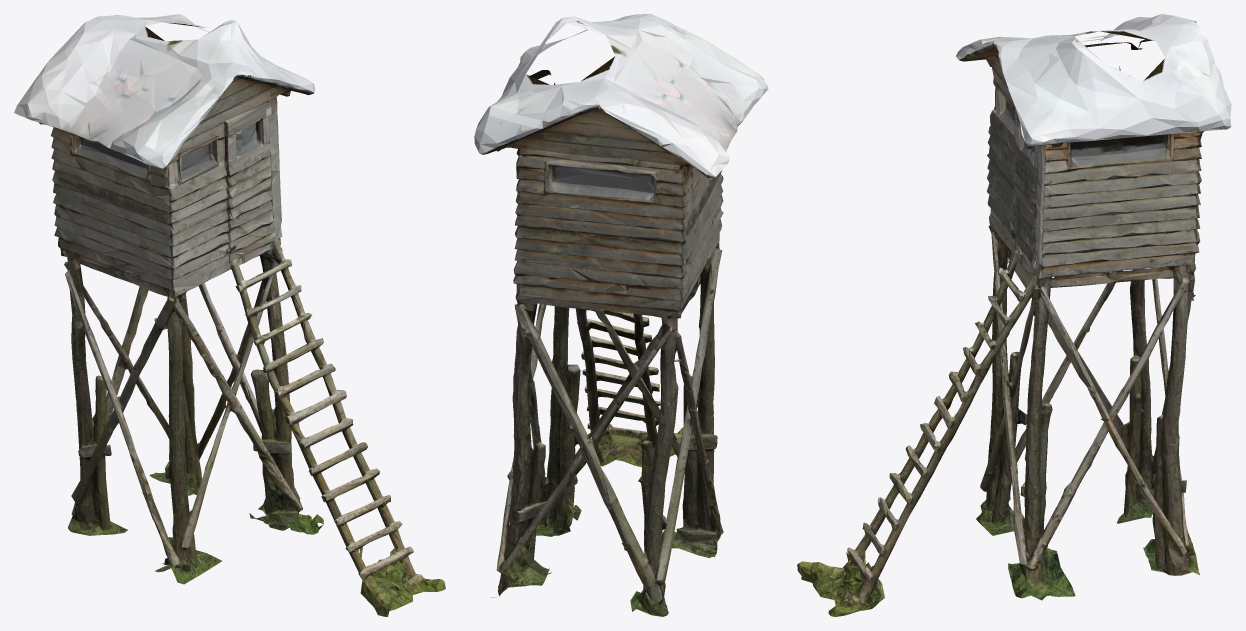
Rendered from scrapped building小屋.glb.
3 views of the same model, side by side, from view 1: azimuth 30°, elevation 25°; view 2: azimuth 150°, elevation 25°; view 3: azimuth 270°, elevation 25° (orthographic). The views are drawn at different scales.
Bounding box in the file's own units: 0.4758 × 0.8324 × 0.6261.
1 material, 1 textured.
